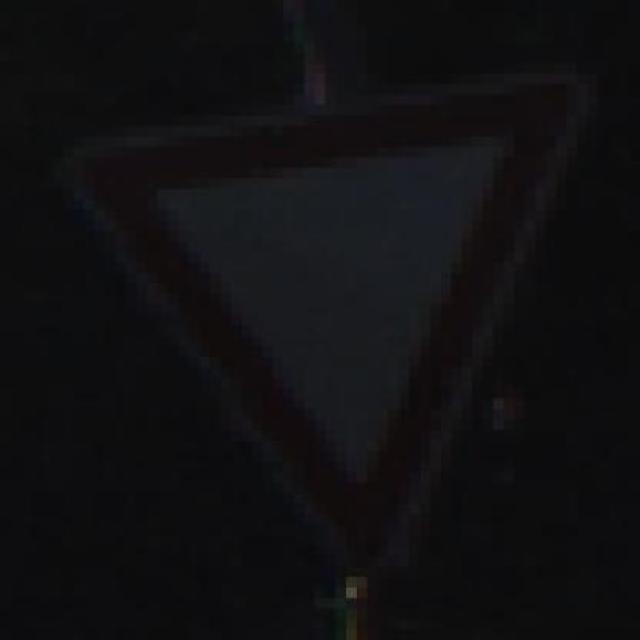Give Way: (51, 59, 618, 595)
